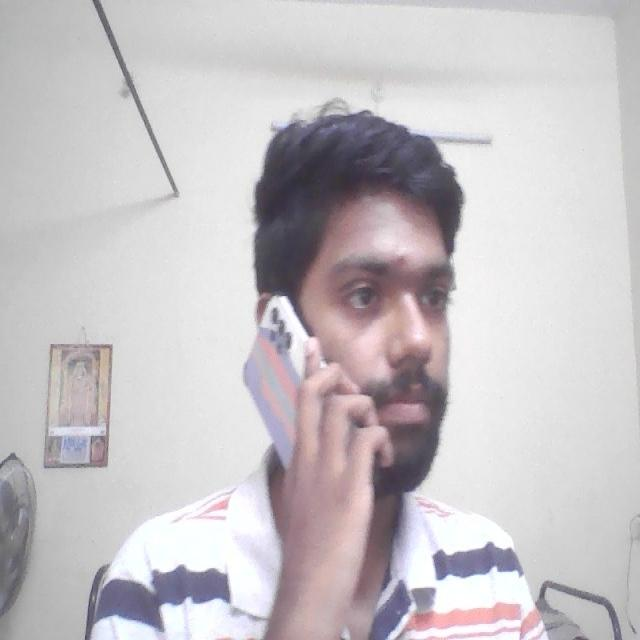Mobile: (235, 292, 332, 463)
